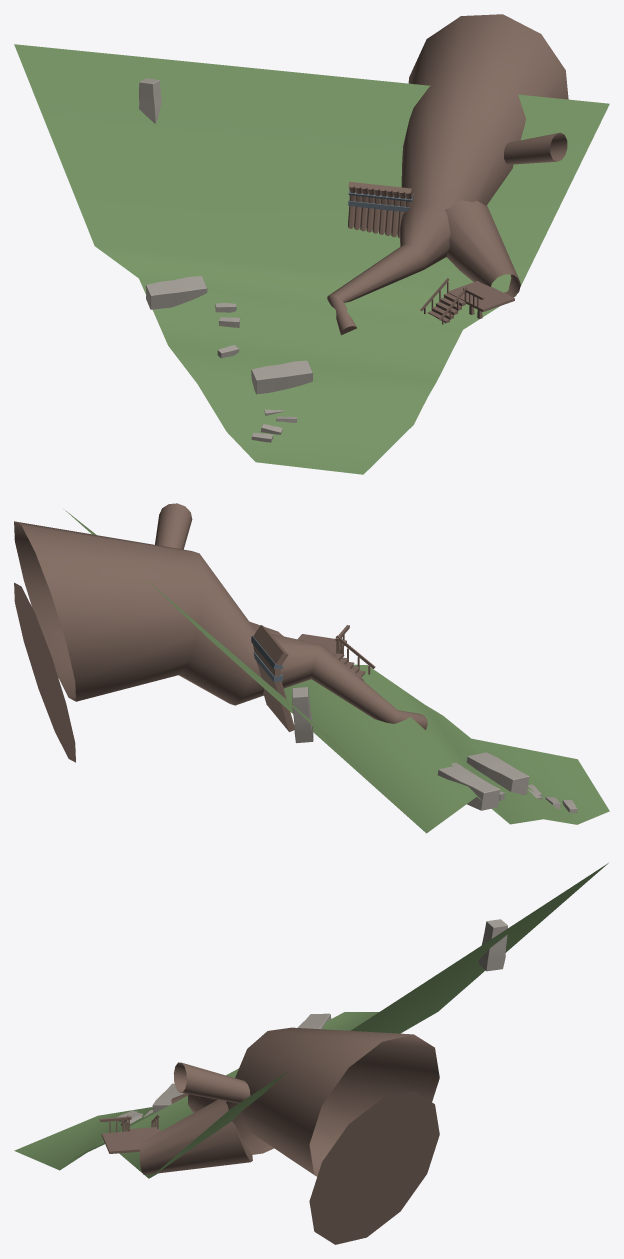
The model's file is MSH_Stands_04.fbx.
3 views of the same model, one above another, from view 1: azimuth 30°, elevation 25°; view 2: azimuth 150°, elevation 25°; view 3: azimuth 270°, elevation 25° (orthographic). The views are drawn at different scales.
Parts seen in each view (by area): view 1: MSH_Stands_04; view 2: MSH_Stands_04; view 3: MSH_Stands_04.
Part boxes in pixels (box(x1,y1,x2,y2)): MSH_Stands_04: box(14, 14, 609, 474); MSH_Stands_04: box(14, 503, 609, 833); MSH_Stands_04: box(14, 863, 608, 1244).
Size of the model in its own units: 3817 by 2216 by 4421.
